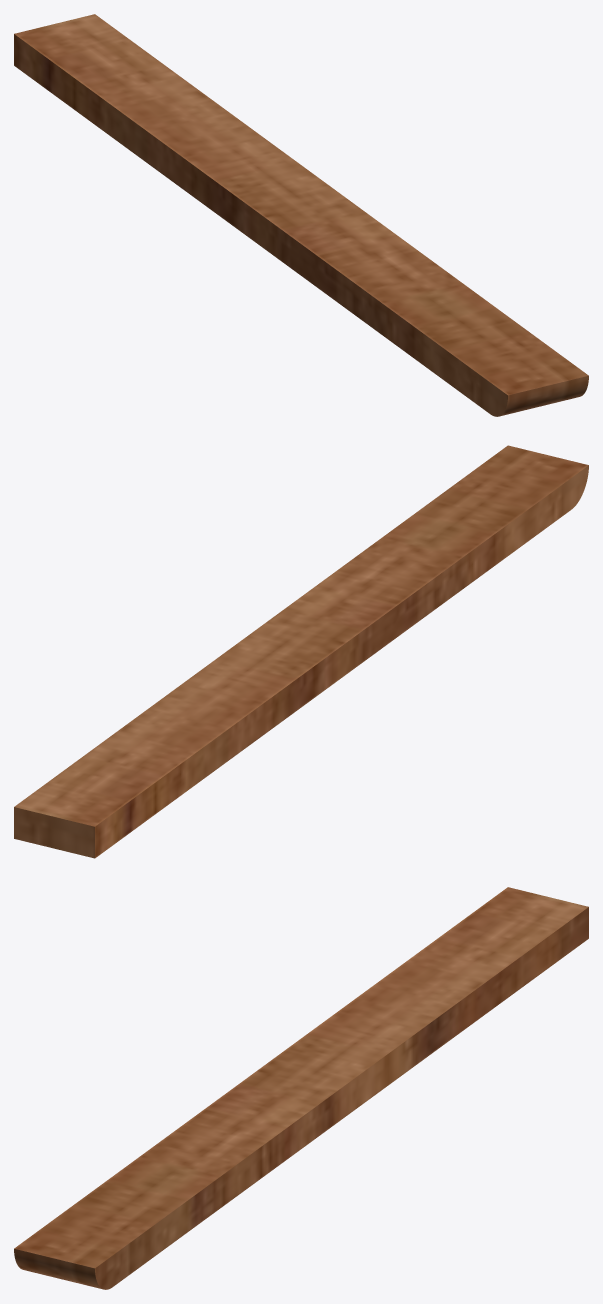
File: original-1180.obj
3 renders of one model, top to bottom at view 1: azimuth 30°, elevation 25°; view 2: azimuth 150°, elevation 25°; view 3: azimuth 330°, elevation 25°, orthographic.
Parts seen in each view (by area): view 1: top_cleat2/top_cleat/mesh316/mesh316-geometry#mesh316-geometry; view 2: top_cleat2/top_cleat/mesh316/mesh316-geometry#mesh316-geometry; view 3: top_cleat2/top_cleat/mesh316/mesh316-geometry#mesh316-geometry.
Boxes of the visible parts, box(x1,y1,x2,y2) form: top_cleat2/top_cleat/mesh316/mesh316-geometry#mesh316-geometry: box(14, 14, 588, 416); top_cleat2/top_cleat/mesh316/mesh316-geometry#mesh316-geometry: box(14, 445, 588, 858); top_cleat2/top_cleat/mesh316/mesh316-geometry#mesh316-geometry: box(14, 887, 588, 1289).
Bounding box in the file's own units: 0.0569 × 0.0213 × 0.601.
